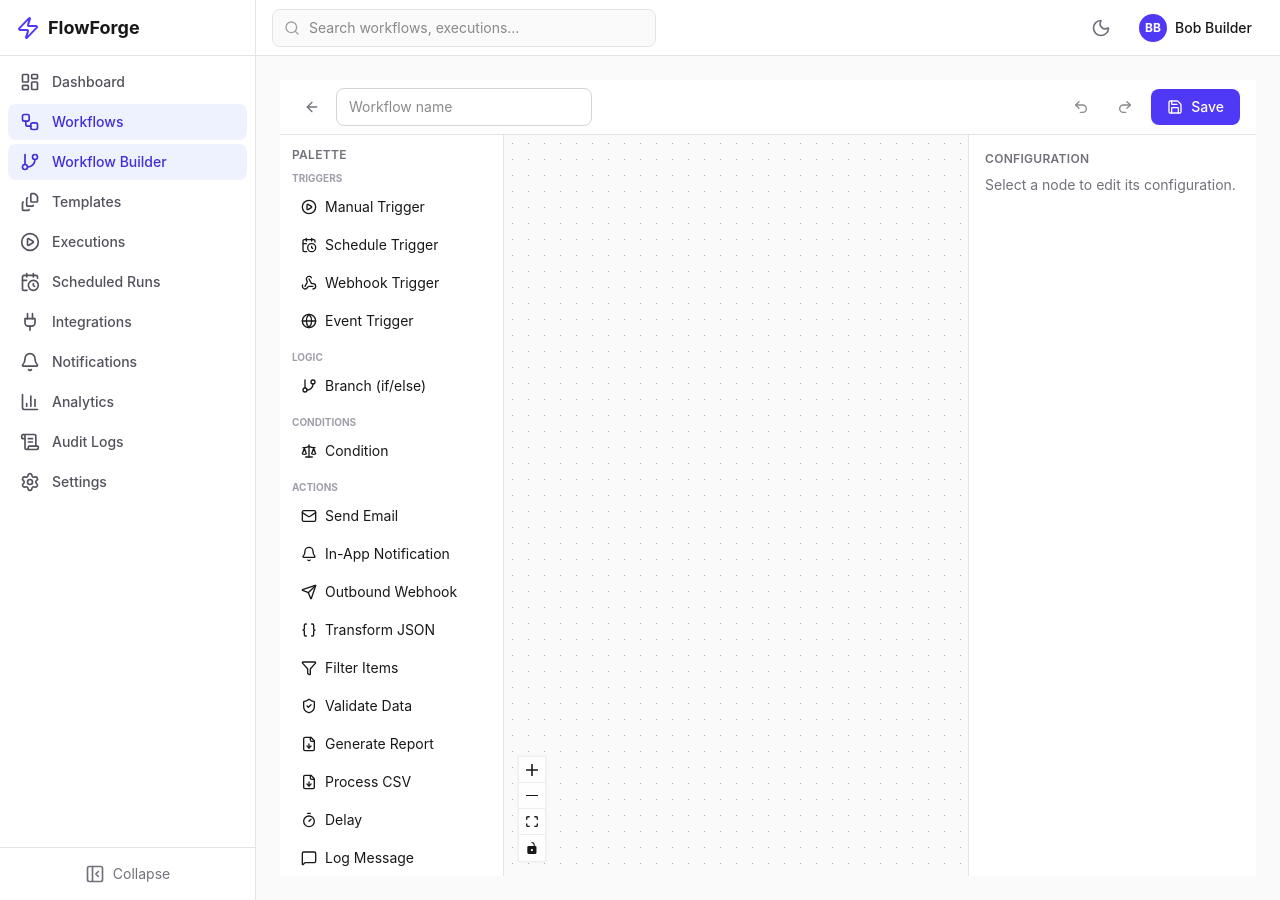
workflow editor › undoes a node addition
Click the button "Manual Trigger".
click(392, 207)  # box 292,190 -> 491,224
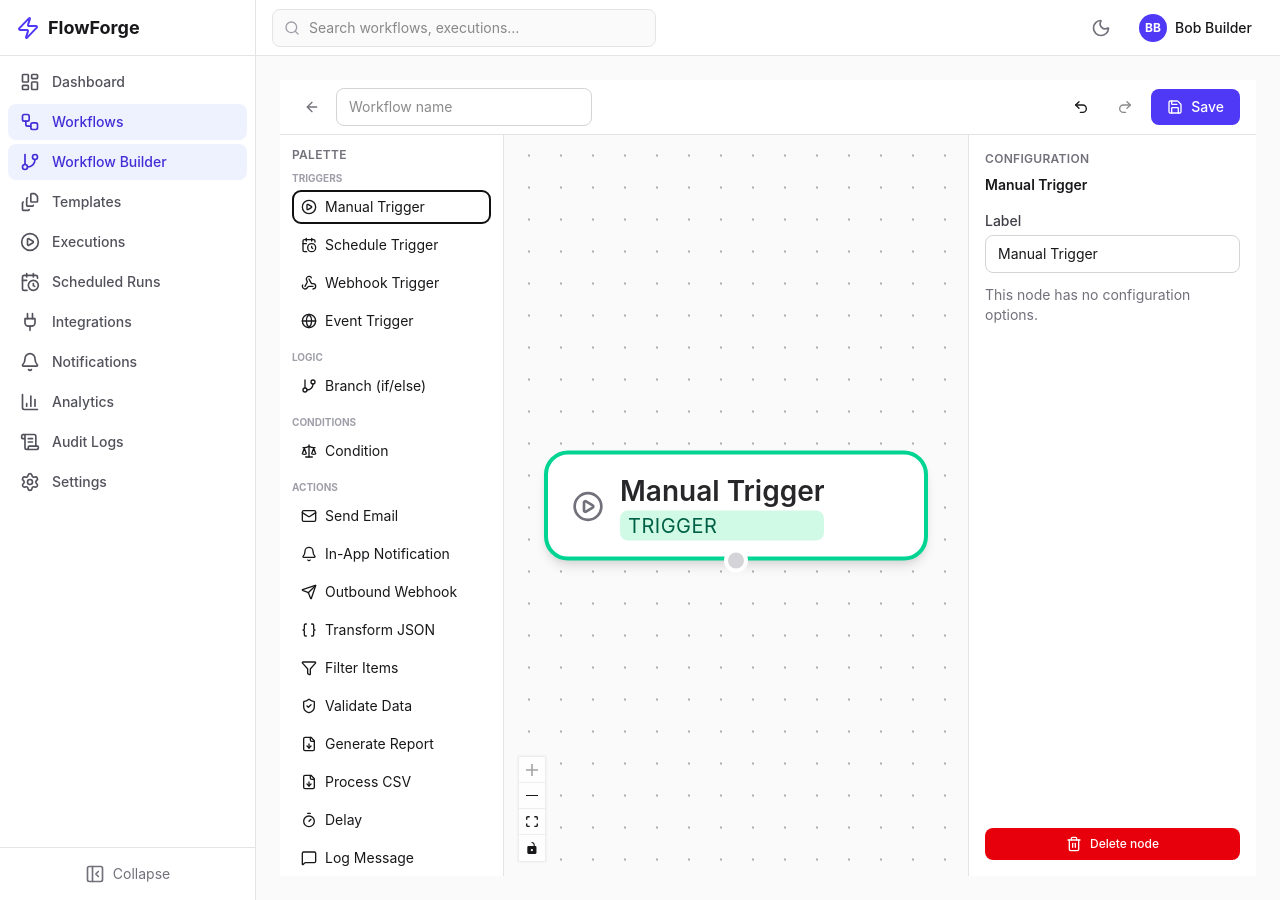
expect the element with test id "rf-node-trigger-manual" is shown: met, box 544,450 -> 928,560
Click the button named "undo".
click(1081, 107)  # box 1063,89 -> 1099,125
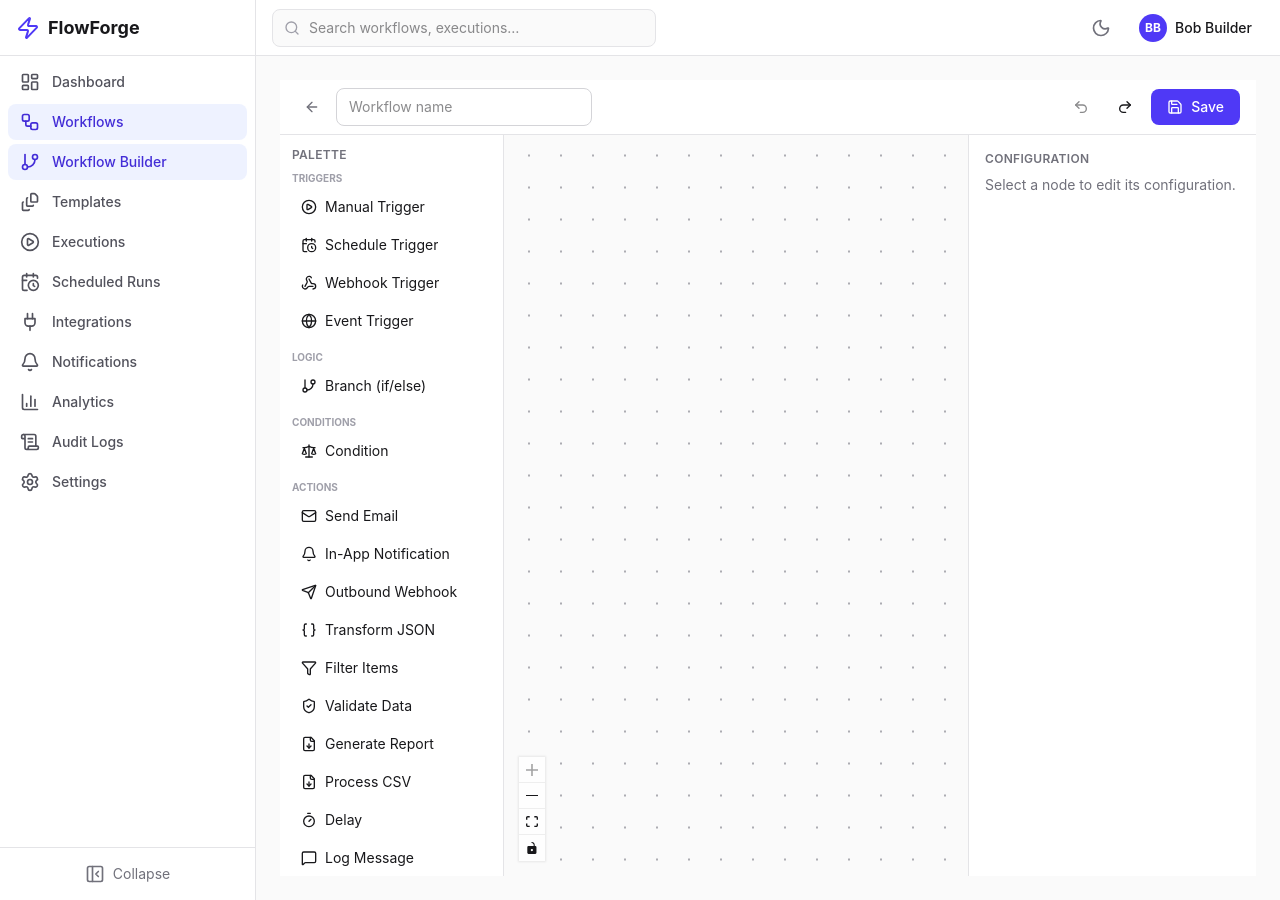
expect the element with test id "rf-node-trigger-manual" is gone: met
